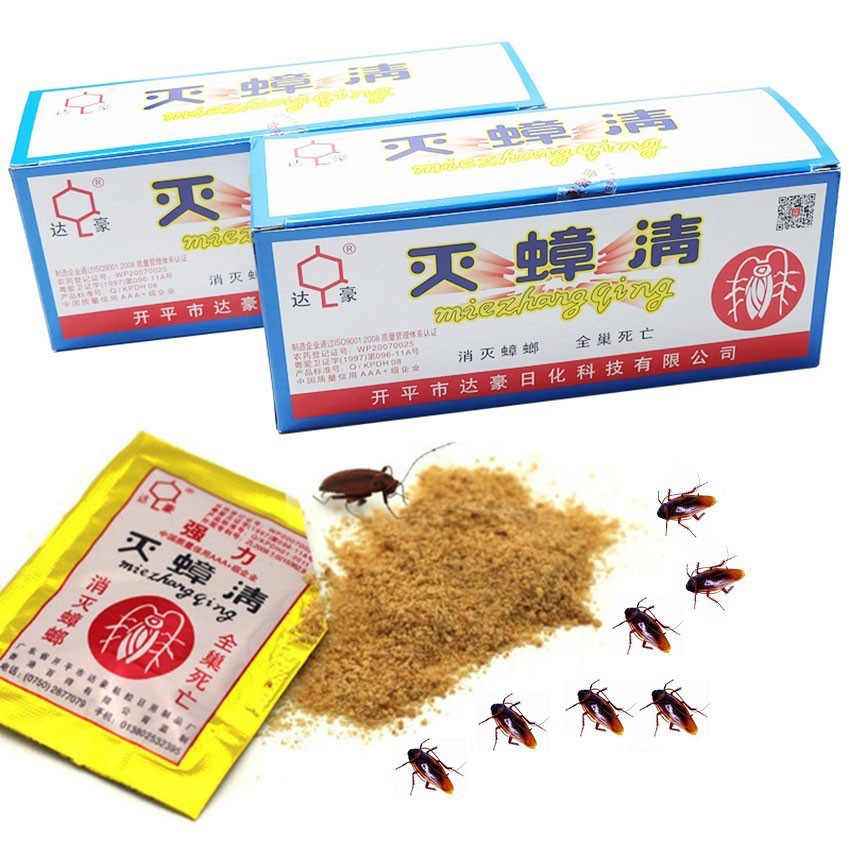Insecticide: (2, 424, 342, 834)
